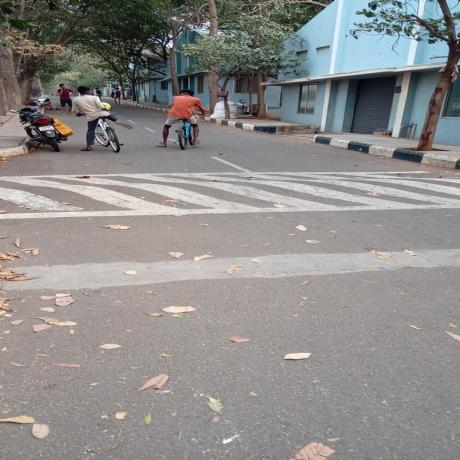Speed Bump: (0, 172, 459, 219)
